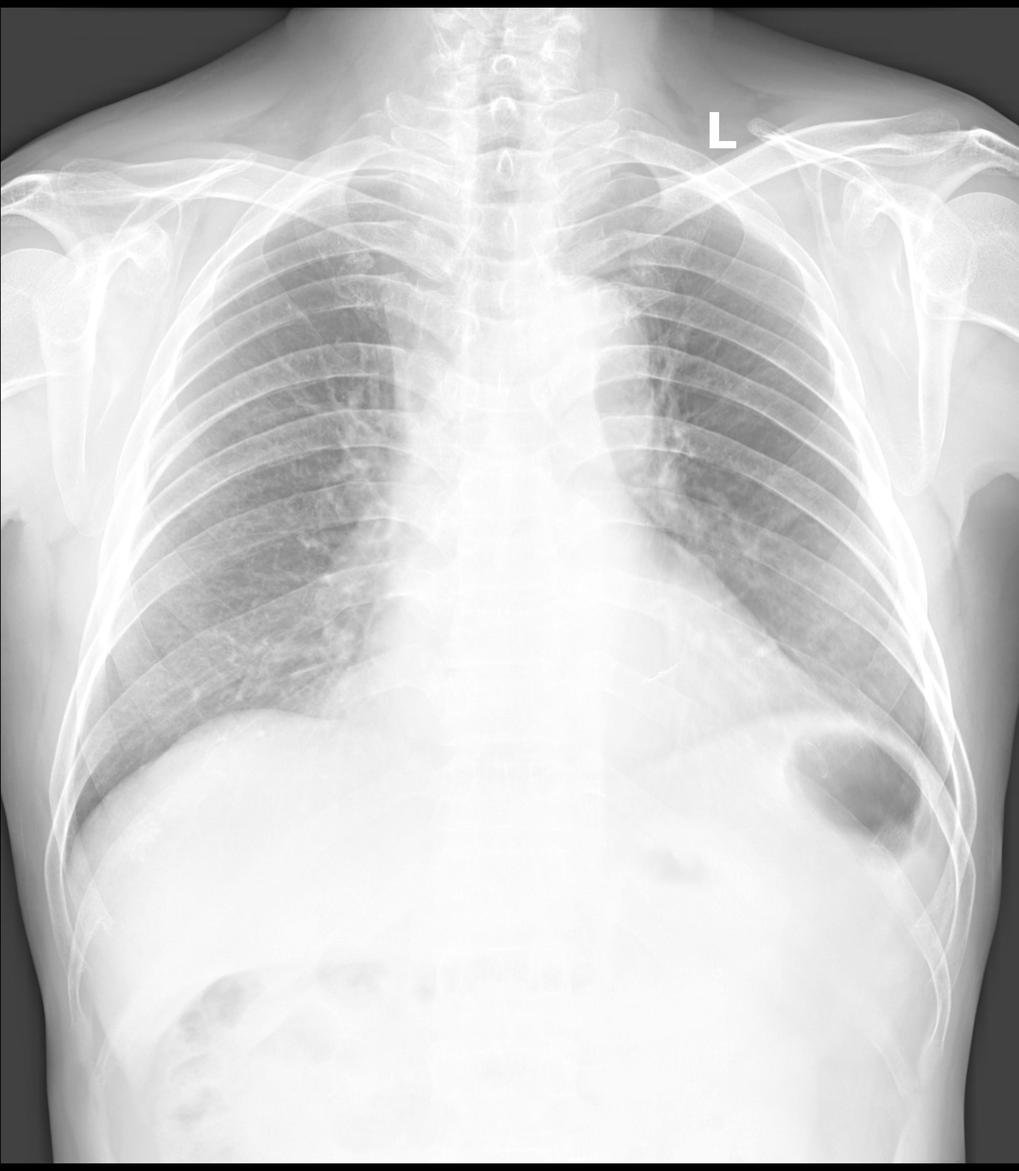Aortic enlargement: (511, 271, 656, 457)
Cardiomegaly: (327, 613, 840, 755)
